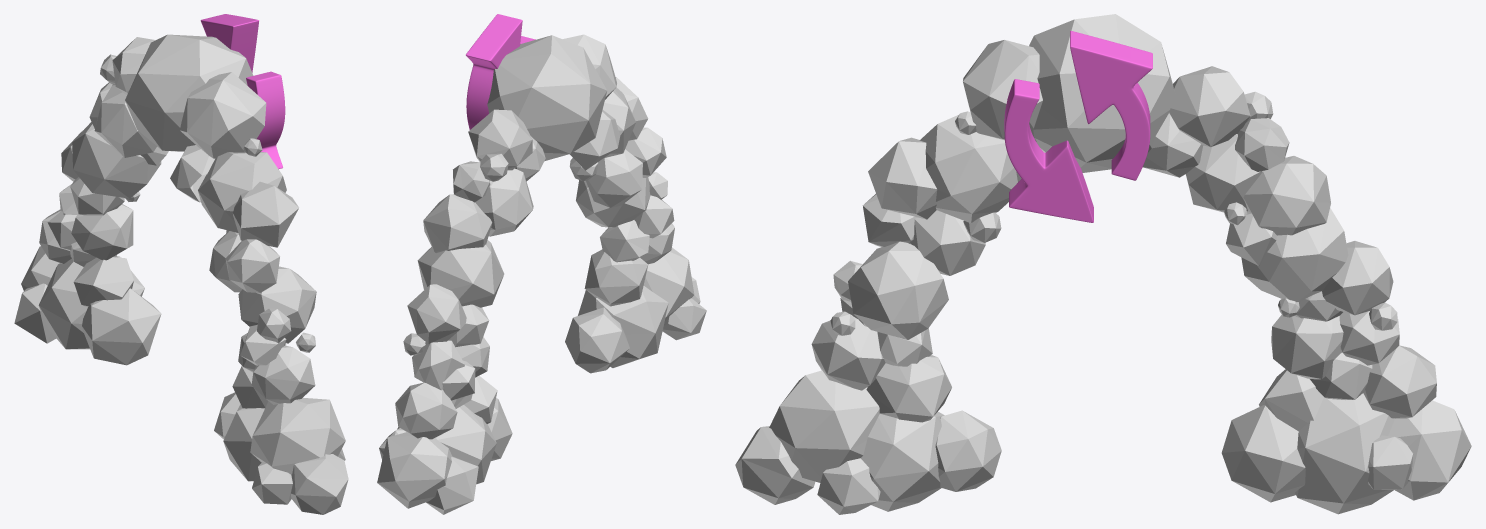
Rendered from Archway01.fbx.
The picture shows the model from 3 angles, left to right: view 1: azimuth 30°, elevation 25°; view 2: azimuth 150°, elevation 25°; view 3: azimuth 270°, elevation 25°; orthographic projection. The views are drawn at different scales.
Visible parts, largest first — view 1: CloudArchway, Arrow; view 2: CloudArchway, Arrow; view 3: CloudArchway, Arrow.
Part boxes in pixels (x1=…): CloudArchway: x1=14, y1=34, x2=348, y2=514; Arrow: x1=200, y1=14, x2=285, y2=169; CloudArchway: x1=377, y1=34, x2=706, y2=514; Arrow: x1=466, y1=14, x2=535, y2=129; CloudArchway: x1=735, y1=14, x2=1471, y2=514; Arrow: x1=1004, y1=31, x2=1152, y2=222.
Size of the model in its own units: 291 by 970 by 1308.
